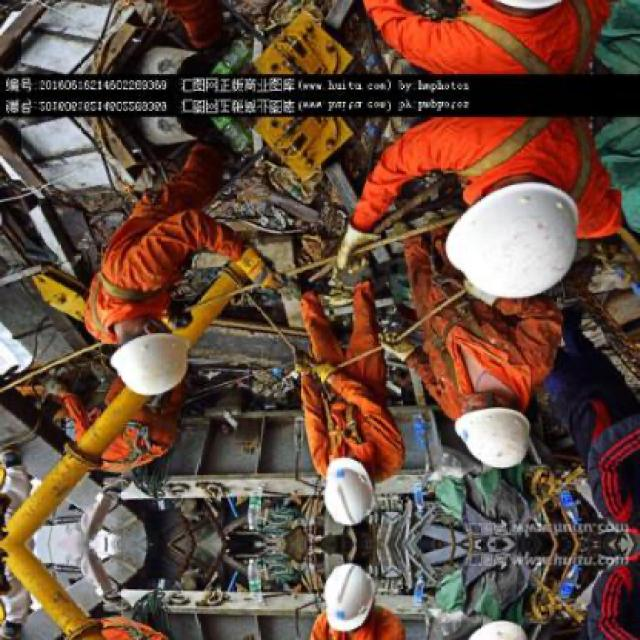con casco: (412, 190, 636, 314), (258, 427, 408, 512), (266, 547, 402, 624), (443, 386, 559, 466), (120, 337, 216, 402)
